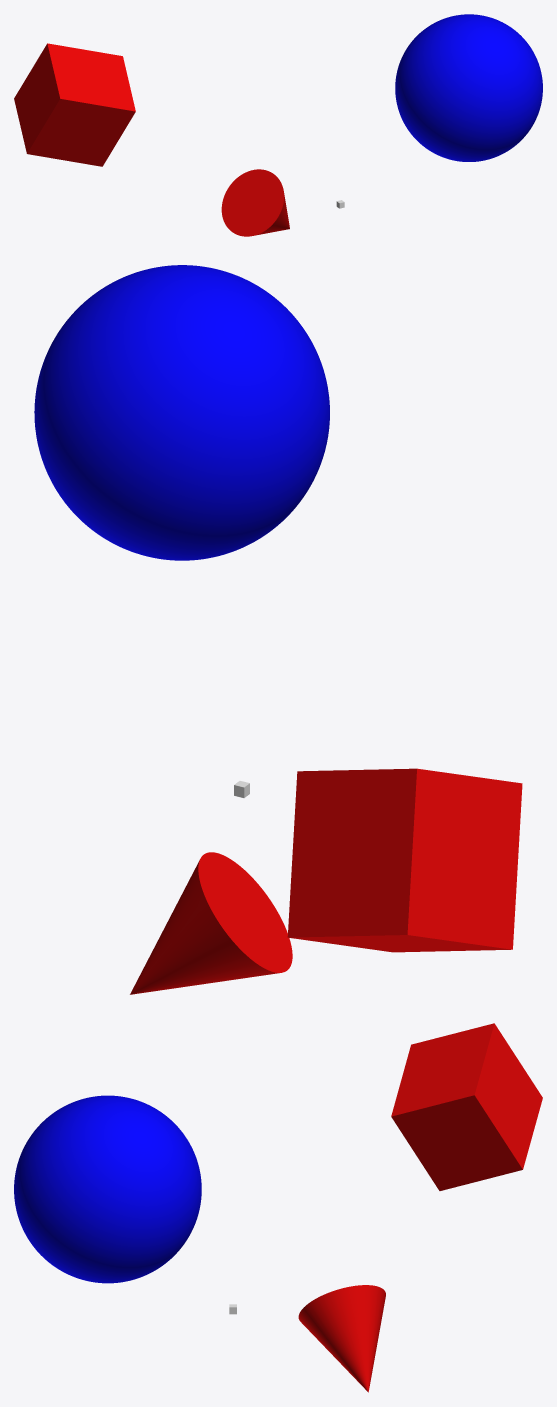
The model's file is testGLTF.glb.
The picture shows the model from 3 angles, top to bottom: view 1: azimuth 30°, elevation 25°; view 2: azimuth 150°, elevation 25°; view 3: azimuth 270°, elevation 25°; orthographic projection. The views are drawn at different scales.
Parts seen in each view (by area): view 1: Layer_03, Layer_01, Layer_02; view 2: Layer_03, Layer_01, Layer_02; view 3: Layer_03, Layer_01, Layer_02.
Boxes of the visible parts, bbox=[...] form: Layer_03: bbox=[395, 14, 542, 161]; Layer_01: bbox=[14, 43, 135, 166]; Layer_02: bbox=[221, 169, 289, 236]; Layer_03: bbox=[34, 265, 329, 560]; Layer_01: bbox=[287, 768, 522, 952]; Layer_02: bbox=[130, 852, 292, 994]; Layer_03: bbox=[14, 1095, 201, 1283]; Layer_01: bbox=[391, 1023, 542, 1190]; Layer_02: bbox=[298, 1285, 385, 1392].
Bounding box in the file's own units: 143 × 98.4 × 141.
